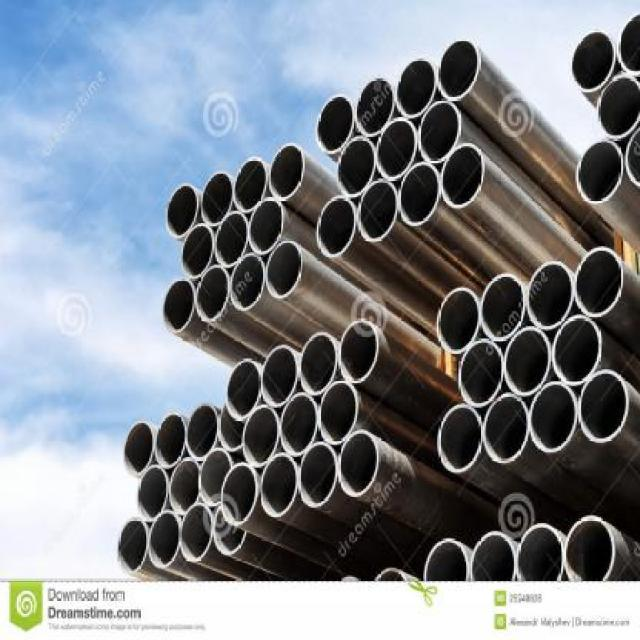pipe: (577, 370, 628, 443), (574, 246, 624, 318), (529, 380, 578, 452), (553, 316, 603, 386), (483, 392, 530, 463), (526, 260, 573, 330), (503, 326, 550, 396), (565, 515, 615, 580), (479, 274, 526, 342), (457, 338, 504, 406), (437, 403, 482, 473), (576, 140, 623, 204), (436, 286, 480, 354), (596, 76, 640, 142), (571, 29, 616, 93), (440, 143, 484, 208), (338, 429, 380, 496), (436, 39, 480, 102), (398, 162, 440, 226), (517, 523, 564, 580), (395, 57, 438, 119), (375, 117, 417, 180), (319, 380, 359, 446), (357, 179, 398, 243), (339, 319, 380, 383), (299, 442, 338, 509), (418, 100, 460, 162), (279, 391, 318, 456), (354, 75, 395, 136), (317, 195, 357, 256), (300, 332, 338, 396), (260, 452, 298, 516), (260, 345, 298, 408), (220, 463, 258, 526), (336, 137, 375, 198), (317, 94, 356, 154), (243, 405, 280, 468), (471, 531, 517, 580), (226, 358, 262, 420), (266, 240, 303, 299), (270, 143, 306, 200), (180, 503, 214, 563), (231, 252, 266, 310), (199, 447, 232, 506), (234, 157, 268, 214), (216, 211, 250, 268), (197, 265, 231, 322), (162, 277, 196, 333), (423, 538, 468, 580), (137, 465, 170, 522), (186, 402, 218, 460), (200, 171, 233, 227), (154, 413, 186, 470), (148, 511, 180, 568), (180, 225, 213, 280), (123, 422, 156, 476), (117, 517, 148, 574), (166, 183, 198, 238), (214, 505, 247, 558), (617, 12, 640, 76), (219, 405, 244, 452)
